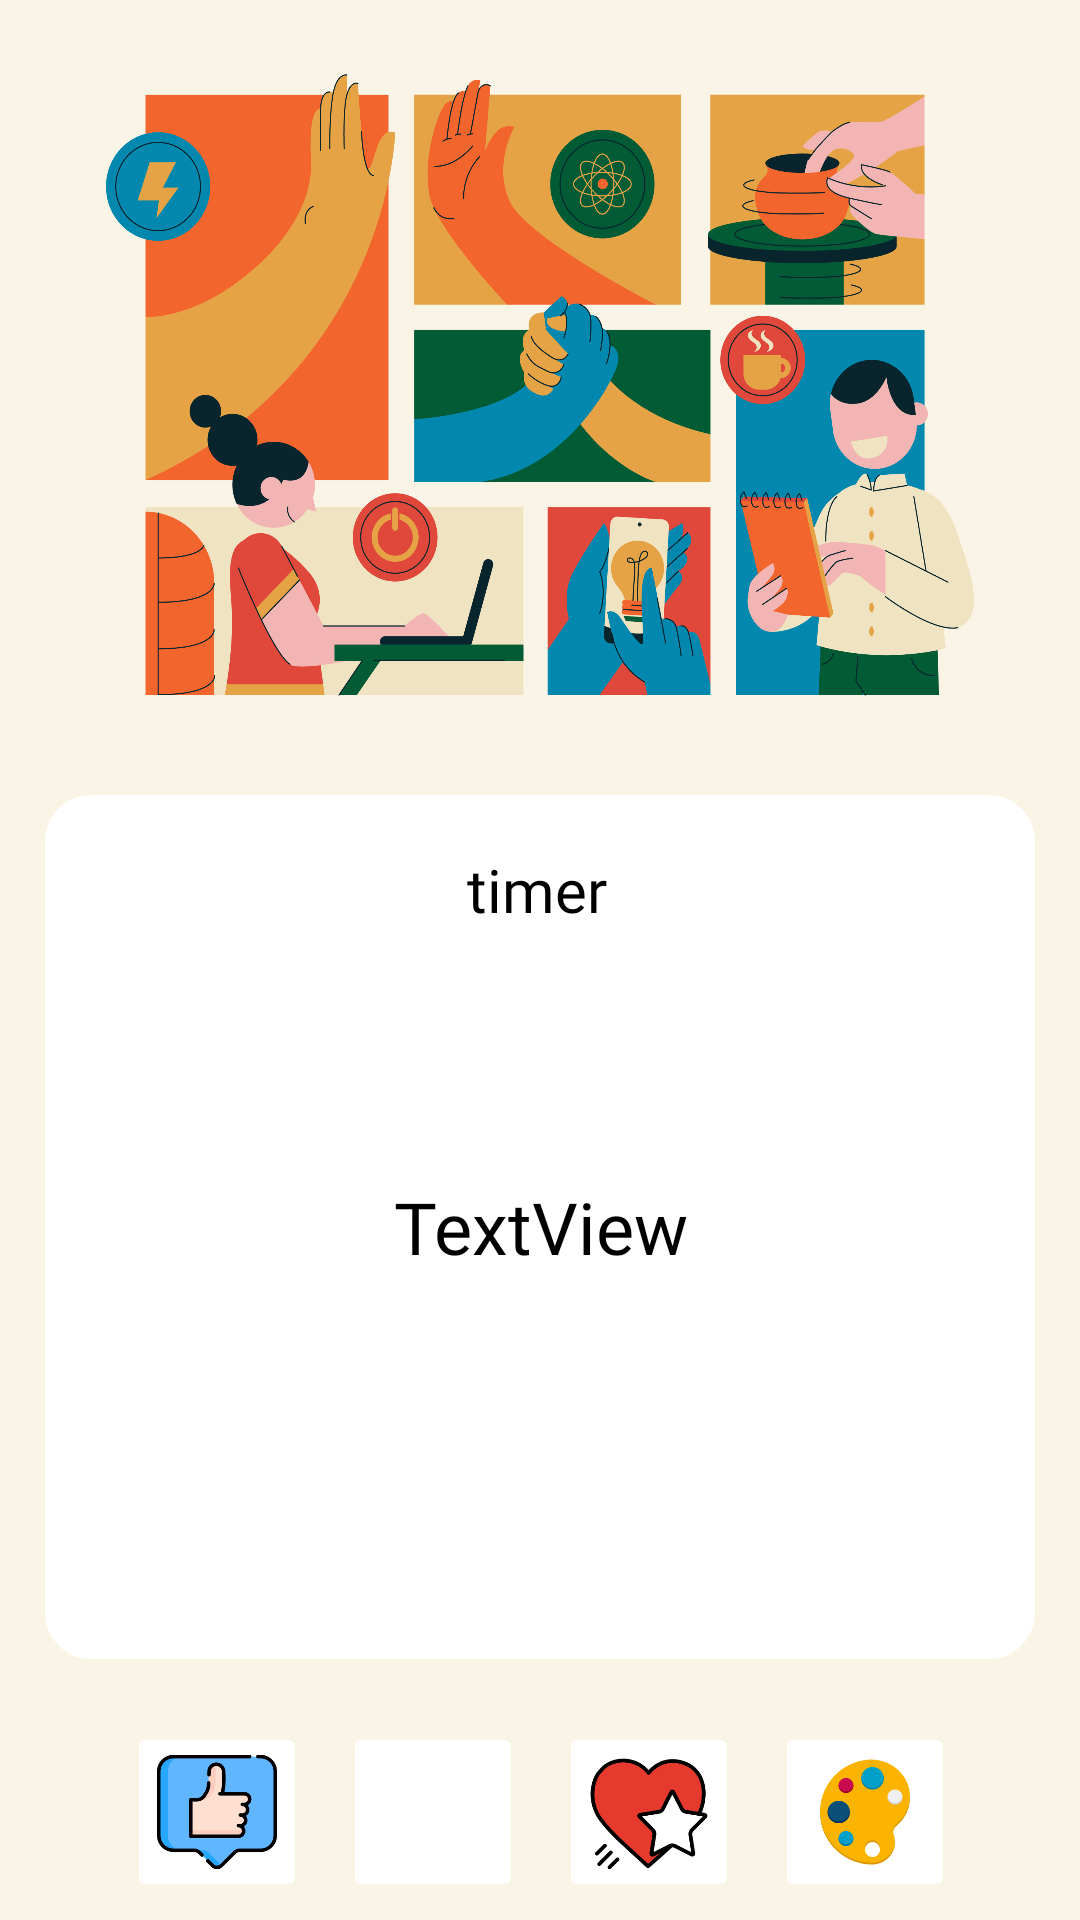

Screen size 1080x1920. Icon name, then its center in pixels as [x,y]:
palletee: [865,1812]
